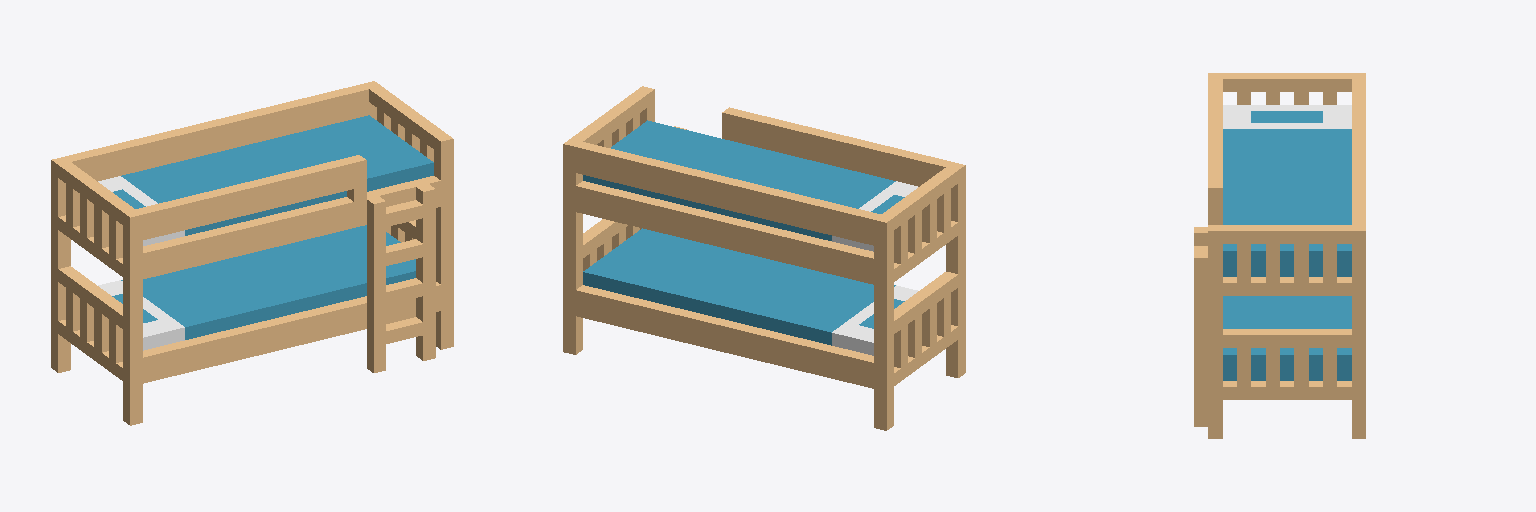
The picture shows the model from 3 angles: view 1: azimuth 30°, elevation 25°; view 2: azimuth 150°, elevation 25°; view 3: azimuth 270°, elevation 25°; orthographic projection.
Parts seen in each view (by area): view 1: bunkbed; view 2: bunkbed; view 3: bunkbed.
Boxes of the visible parts, x1=… form: bunkbed: x1=51, y1=81, x2=453, y2=425; bunkbed: x1=563, y1=86, x2=965, y2=430; bunkbed: x1=1194, y1=73, x2=1365, y2=438.
Size of the model in its own units: 26 by 16 by 12.
1 materials, 1 textured.